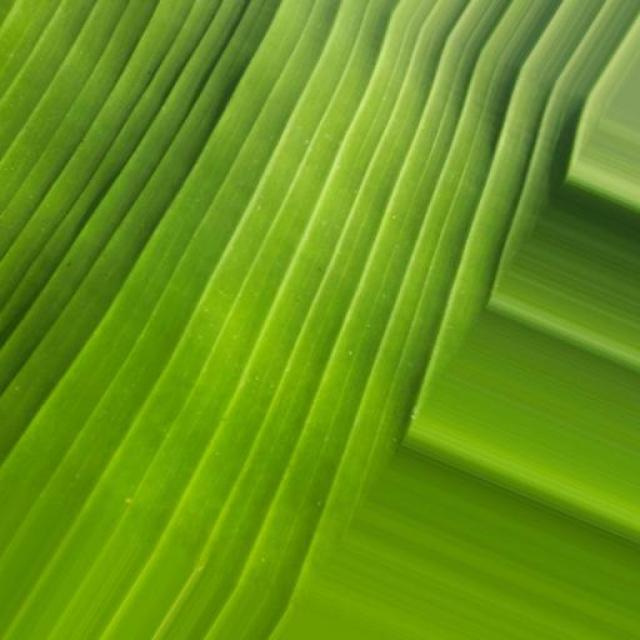Black_leaf_spot: (0, 0, 541, 614)
